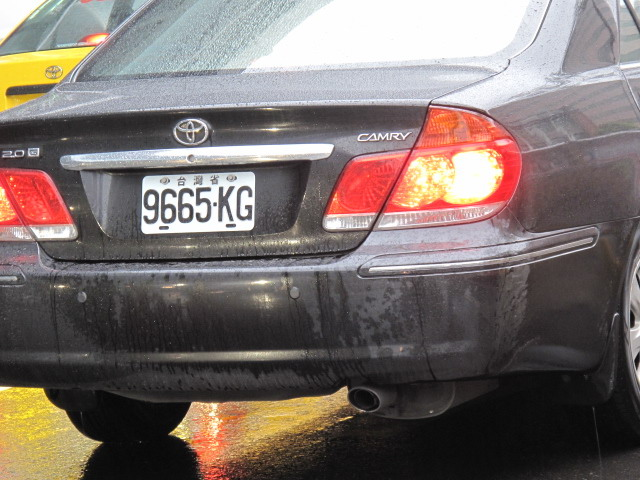plate: (139, 169, 260, 239)
